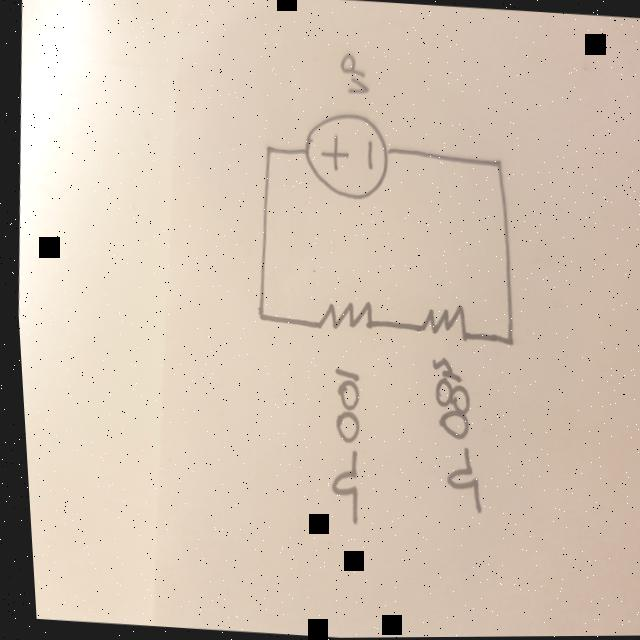junction: (261, 140, 272, 156), (251, 305, 262, 320), (490, 156, 500, 171), (501, 335, 511, 348)
resistor: (308, 296, 374, 334), (414, 301, 467, 341)
source: (296, 109, 391, 202)
text: (414, 354, 487, 516), (314, 363, 363, 526), (335, 51, 372, 97)
